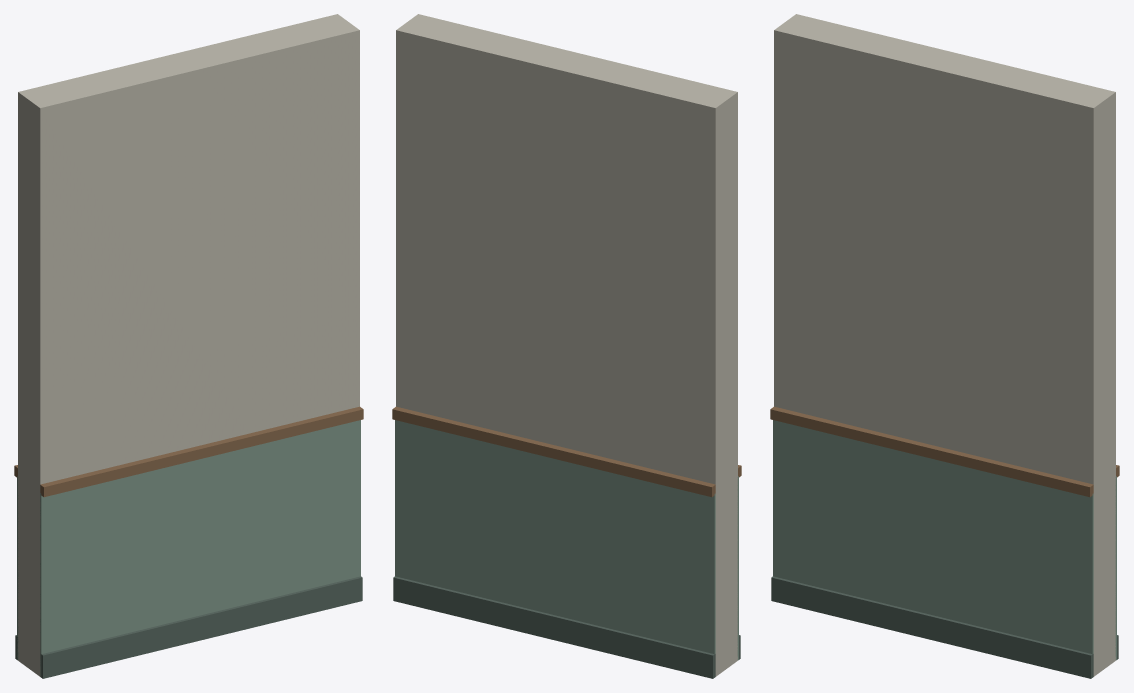
The model's file is wall_module.glb.
3 renders of one model, left to right at view 1: azimuth 30°, elevation 25°; view 2: azimuth 150°, elevation 25°; view 3: azimuth 330°, elevation 25°, orthographic.
Parts seen in each view (by area): view 1: WallModule; view 2: WallModule; view 3: WallModule.
Boxes of the visible parts, box(x1,y1,x2,y2) form: WallModule: box(14, 14, 363, 678); WallModule: box(392, 14, 741, 678); WallModule: box(770, 14, 1119, 678).
Bounding box in the file's own units: 2 × 3.4 × 0.32.
